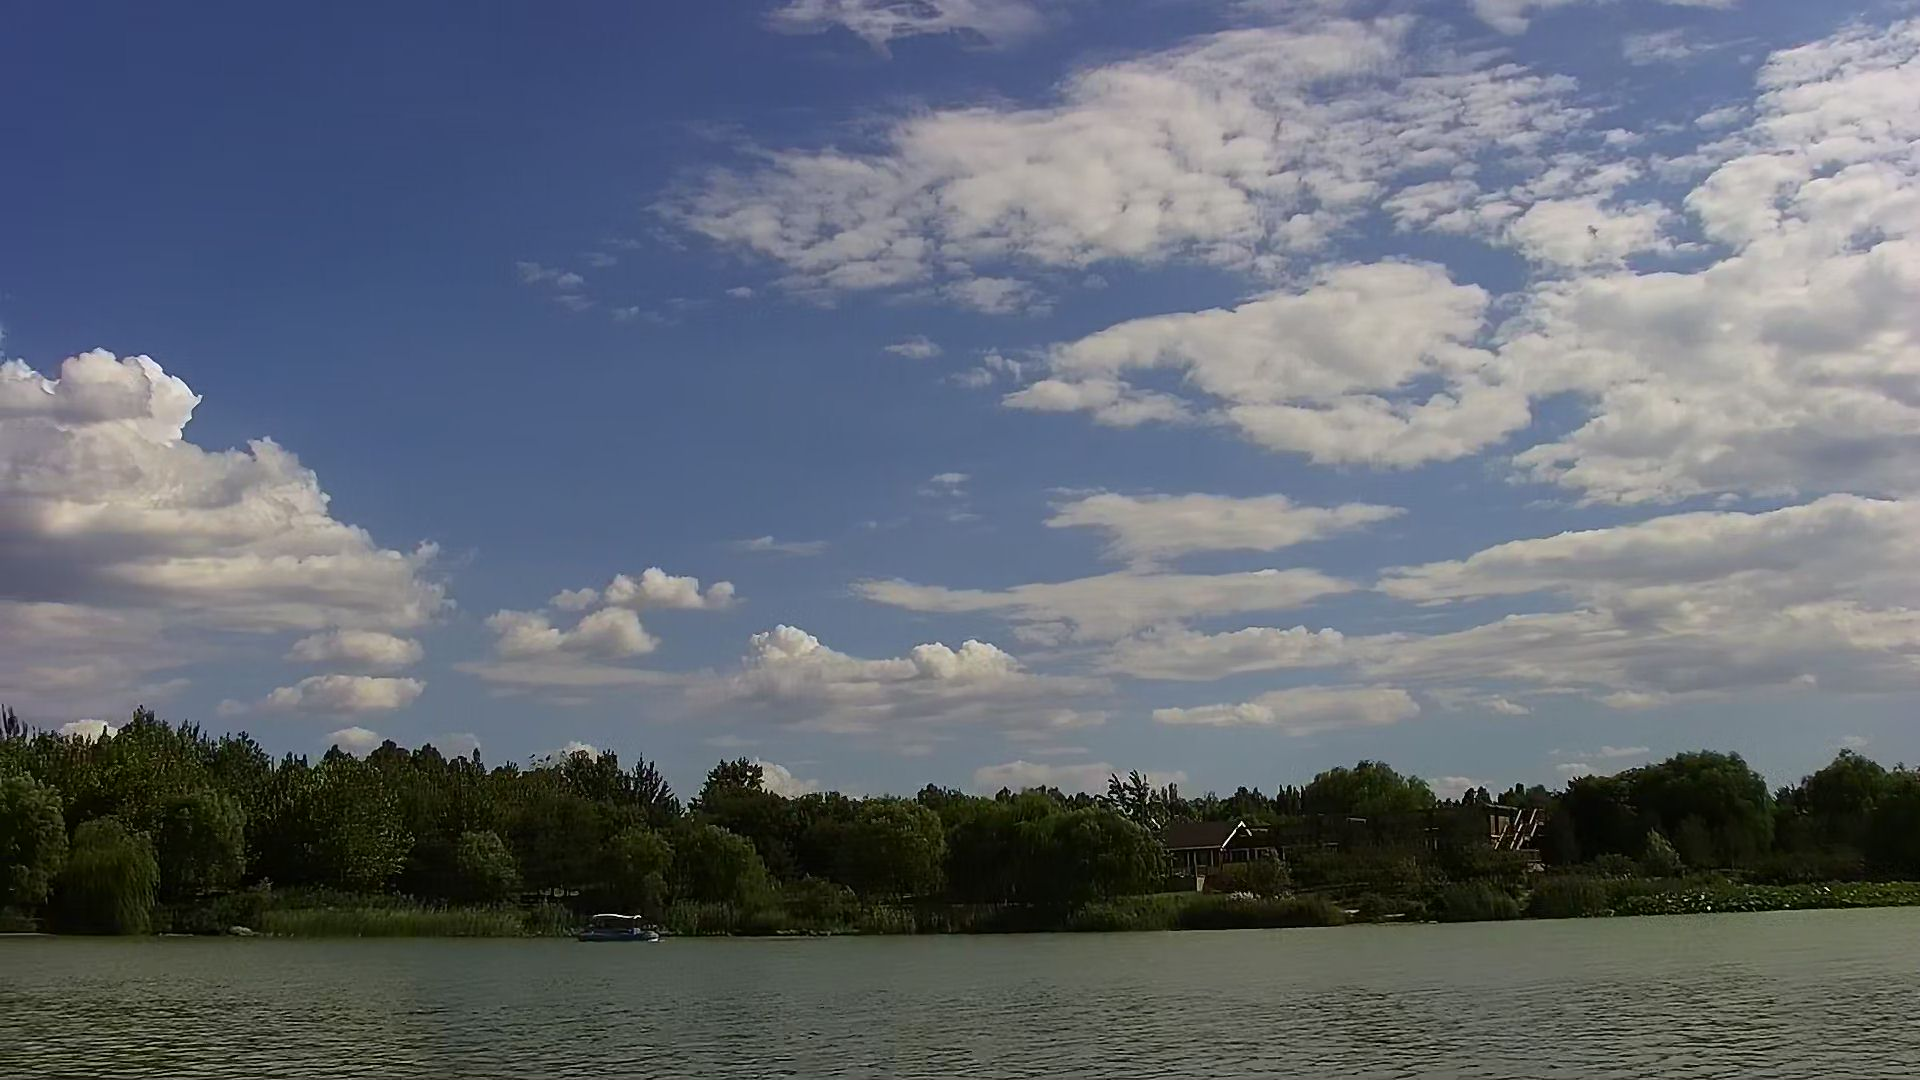boat: (575, 907, 669, 949)
